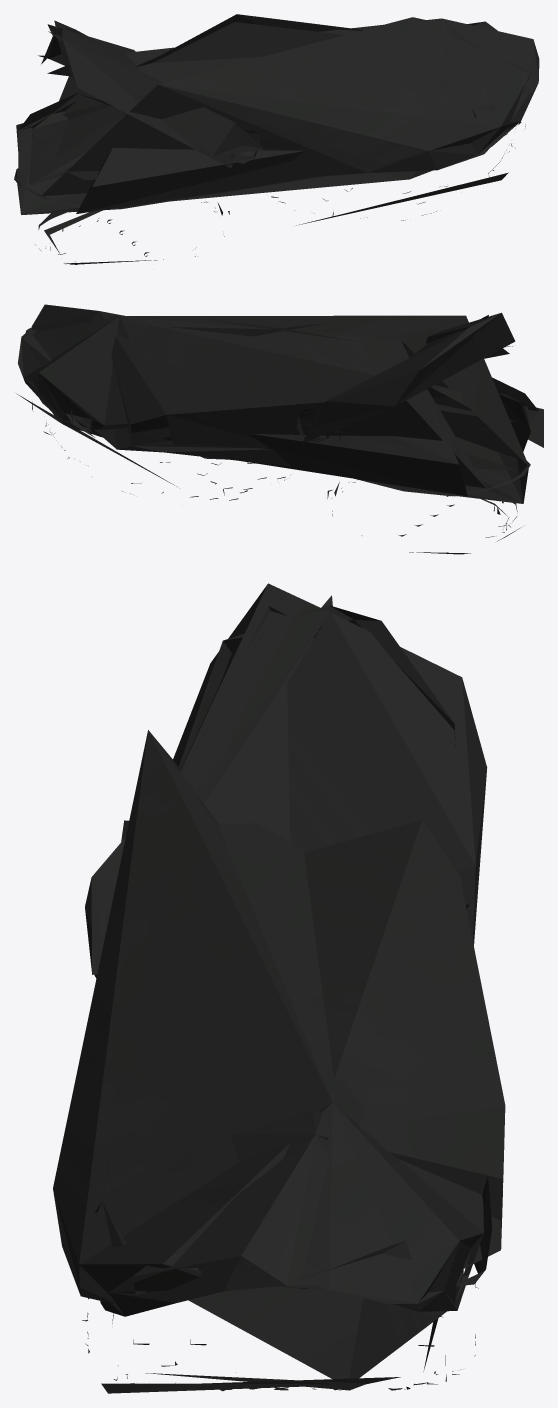
File: clogs_hospital_a01.glb
3 views of the same model, one above another, from view 1: azimuth 30°, elevation 25°; view 2: azimuth 150°, elevation 25°; view 3: azimuth 270°, elevation 25° (orthographic). The views are drawn at different scales.
Parts seen in each view (by area): view 1: geometry_0; view 2: geometry_0; view 3: geometry_0.
Part boxes in pixels (x1,y1,x2,y2): geometry_0: [14, 14, 539, 264]; geometry_0: [16, 304, 543, 554]; geometry_0: [53, 583, 505, 1393].
Bounding box in the file's own units: 0.42 × 0.1794 × 0.1654.
1 material, 1 textured.
